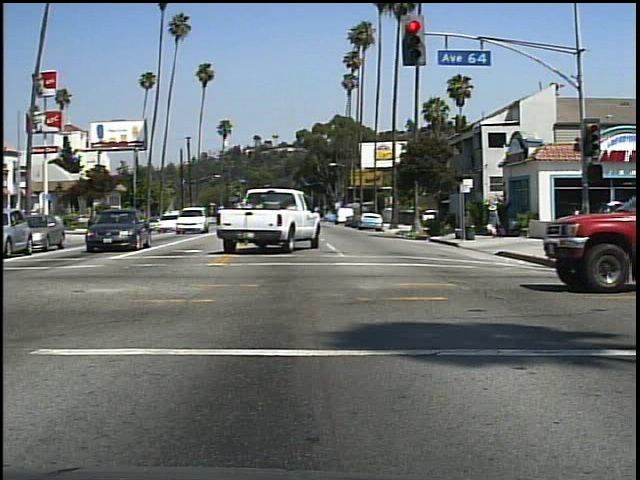person: (482, 199, 508, 242)
